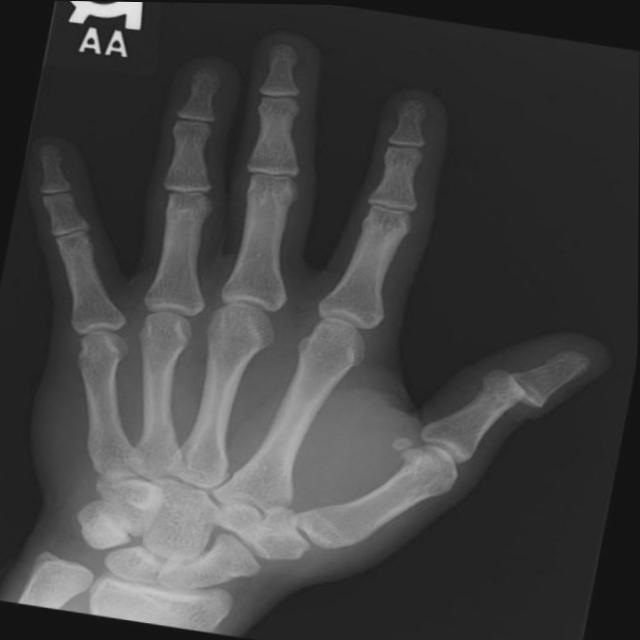Transverse Displaced: (464, 353, 566, 430)
